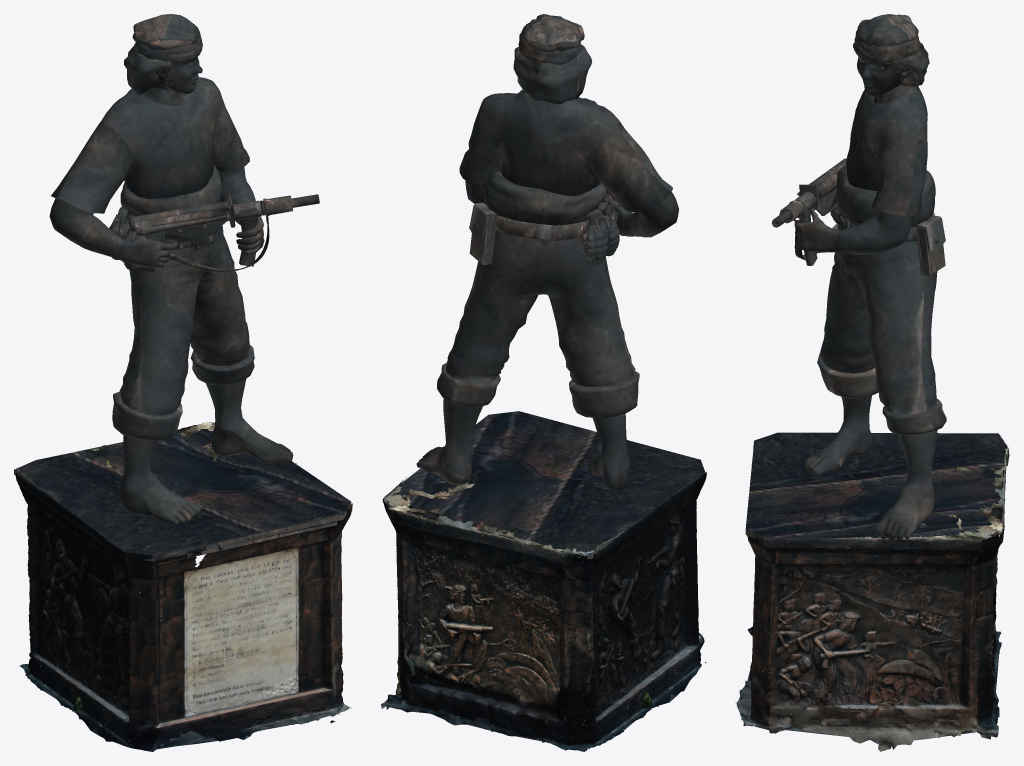
Rendered from soewoko.glb.
3 renders of one model, left to right at view 1: azimuth 30°, elevation 25°; view 2: azimuth 150°, elevation 25°; view 3: azimuth 270°, elevation 25°, orthographic.
Parts seen in each view (by area): view 1: Mesh_1.001, Mesh_0.001; view 2: Mesh_1.001, Mesh_0.001; view 3: Mesh_1.001, Mesh_0.001.
Part boxes in pixels (x1,y1,x2,y2): Mesh_1.001: (20,14,351,751); Mesh_0.001: (14,422,352,751); Mesh_1.001: (382,14,706,751); Mesh_0.001: (381,411,706,751); Mesh_1.001: (744,14,1005,751); Mesh_0.001: (736,432,1009,744).
Bounding box in the file's own units: 0.9435 × 2.55 × 0.9264.
Materials: 2 (2 with a texture image).
